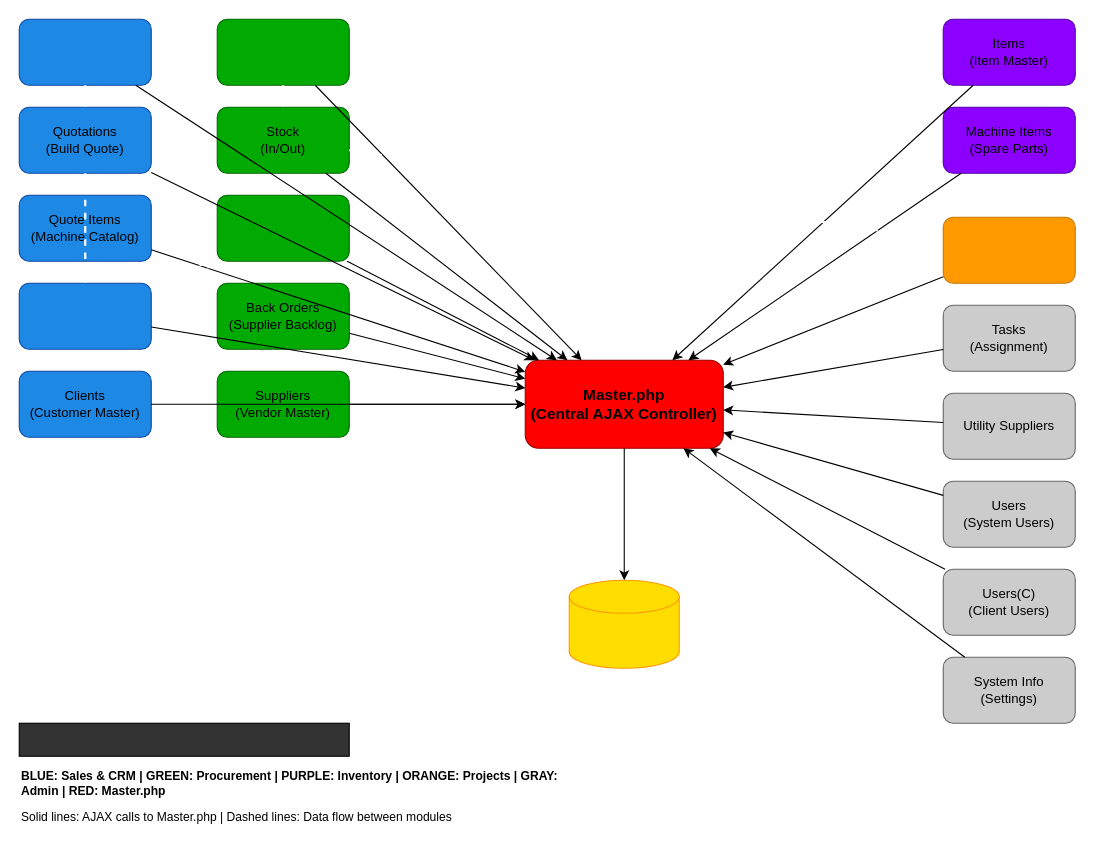
Image size: 1095x853. Some labels were removed from this diagram. The box of each missing label's shape, as (x1, y1, x2, y2) in pixels:
Leads (CRM): (18, 18, 151, 85)
LEGEND: (18, 722, 349, 756)
MySQL Database (35+ Tables): (568, 579, 679, 668)
PO Details (Factory PO): (216, 194, 349, 261)
Proforma Invoice (Quote→Invoice): (18, 282, 151, 349)
Project Planner (Tracking): (942, 216, 1075, 283)
Purchase Orders (Supplier PO): (216, 18, 349, 85)
